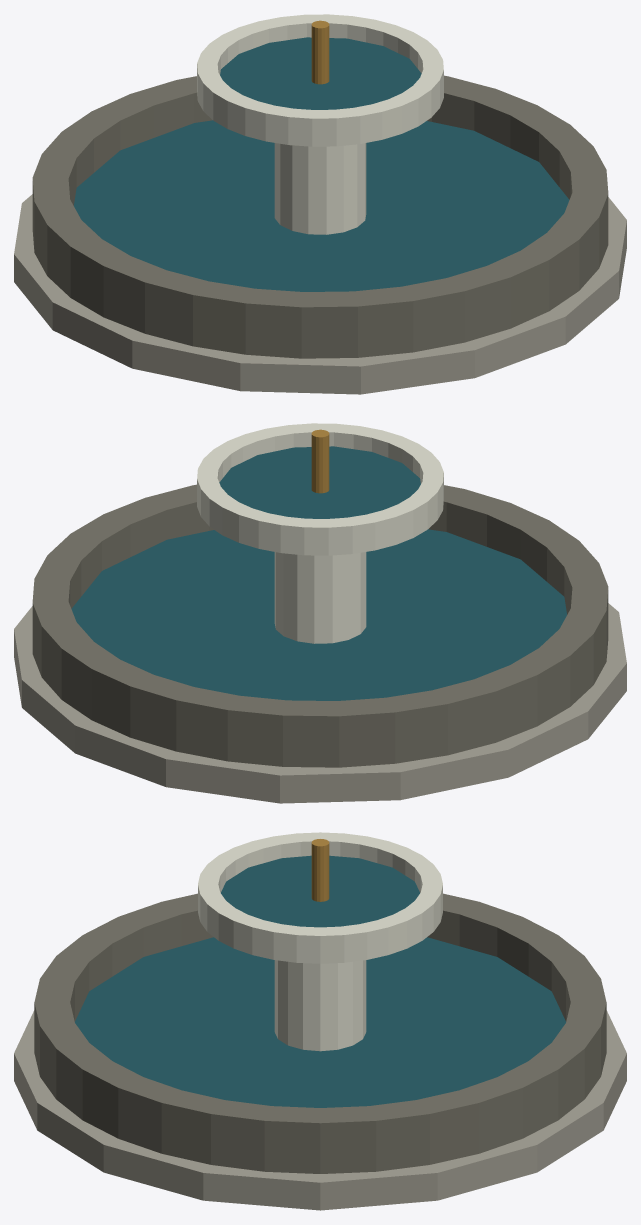
The model's file is mosque-courtyard-fountain.glb.
The picture shows the model from 3 angles, top to bottom: view 1: azimuth 30°, elevation 25°; view 2: azimuth 150°, elevation 25°; view 3: azimuth 270°, elevation 25°; orthographic projection.
Visible parts, largest first — view 1: Basin_Rim, Water_Surface, Foundation, Upper_Bowl, Upper_Water, Central_Pedestal, Nozzle; view 2: Basin_Rim, Water_Surface, Foundation, Upper_Bowl, Upper_Water, Central_Pedestal, Nozzle; view 3: Basin_Rim, Water_Surface, Foundation, Upper_Bowl, Upper_Water, Central_Pedestal, Nozzle.
Part boxes in pixels (x1,y1,x2,y2): Basin_Rim: (32,75,608,358); Water_Surface: (74,120,569,291); Foundation: (14,194,626,394); Upper_Bowl: (197,14,443,146); Upper_Water: (220,37,421,109); Central_Pedestal: (274,143,366,234); Nozzle: (311,20,329,84); Basin_Rim: (32,484,608,767); Water_Surface: (71,529,566,700); Foundation: (14,603,626,803); Upper_Bowl: (197,423,443,555); Upper_Water: (219,446,420,518); Central_Pedestal: (274,552,366,643); Nozzle: (311,429,329,493); Basin_Rim: (34,893,606,1173); Water_Surface: (75,937,565,1107); Foundation: (14,1010,626,1210); Upper_Bowl: (198,832,442,963); Upper_Water: (221,855,419,927); Central_Pedestal: (274,960,366,1051); Nozzle: (311,839,329,901).
Bounding box in the file's own units: 2.4 × 1.03 × 2.4.
